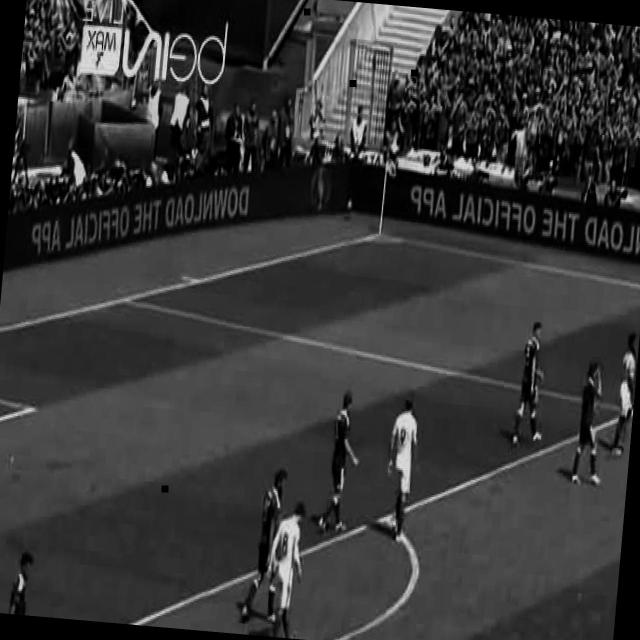player-white: (241, 464, 289, 628), (318, 392, 364, 536), (264, 500, 311, 640), (382, 394, 422, 544), (570, 362, 610, 488), (512, 319, 550, 448), (610, 327, 640, 456), (0, 548, 52, 617)
